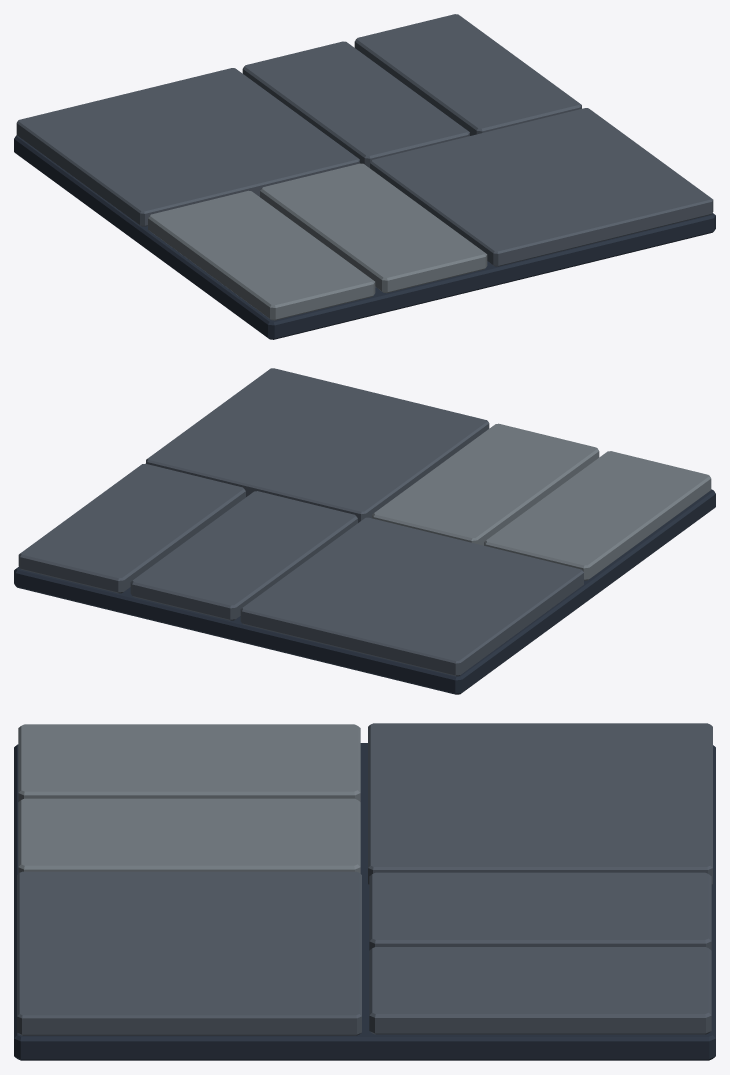
Rendered from floor-cracked.glb.
3 renders of one model, top to bottom at view 1: azimuth 30°, elevation 25°; view 2: azimuth 150°, elevation 25°; view 3: azimuth 270°, elevation 25°, orthographic. The views are drawn at different scales.
Parts seen in each view (by area): view 1: floor-cracked__body; view 2: floor-cracked__body; view 3: floor-cracked__body.
Boxes of the visible parts, bbox=[...] form: floor-cracked__body: bbox=[14, 14, 715, 339]; floor-cracked__body: bbox=[14, 368, 715, 694]; floor-cracked__body: bbox=[14, 723, 715, 1060].
Bounding box in the file's own units: 2 × 0.14 × 2.
